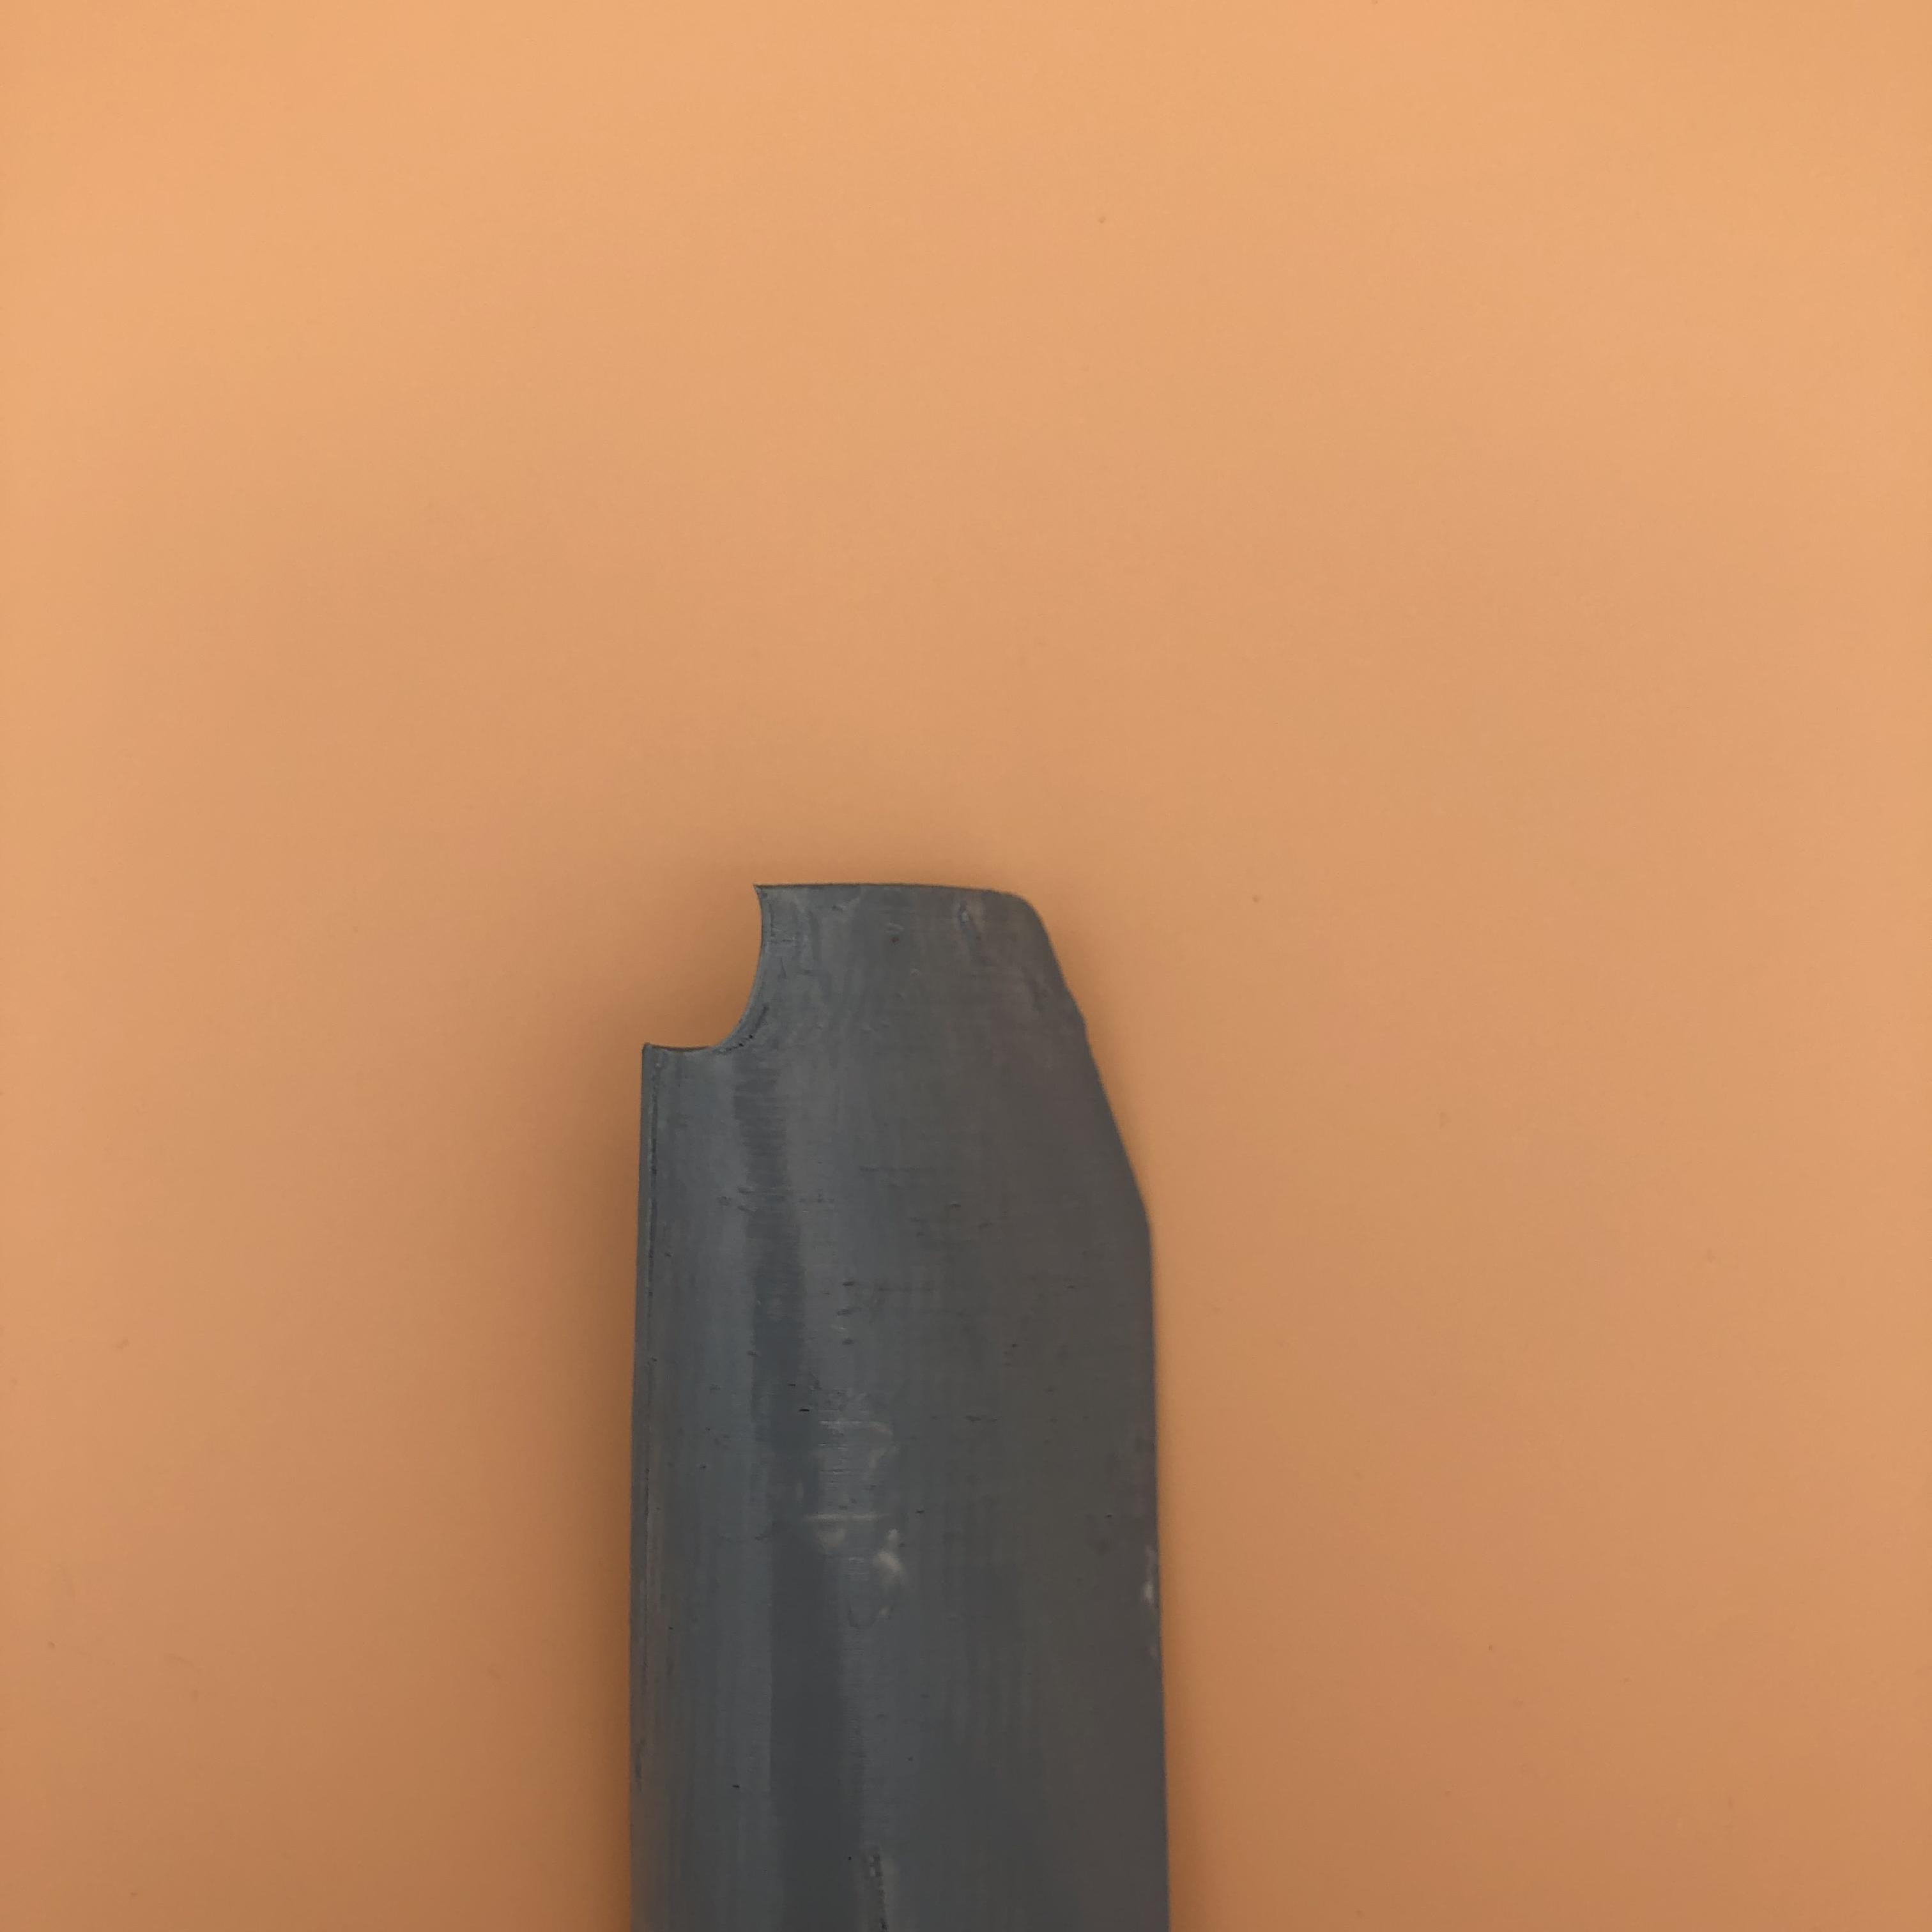fracture: (649, 908, 837, 1072)
